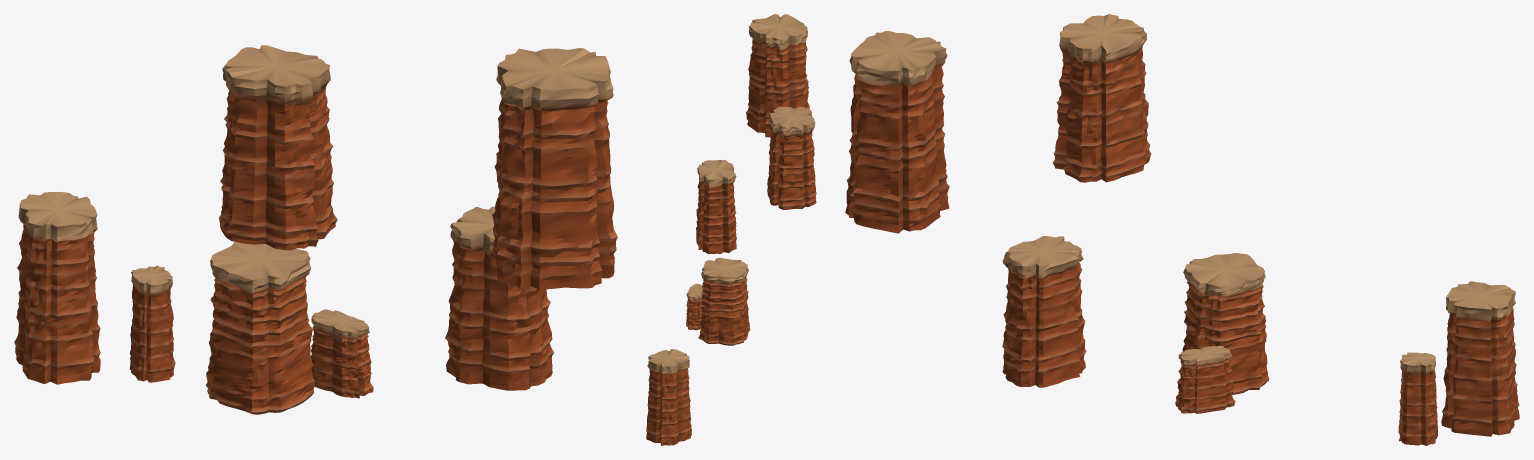
The model's file is terrain-087.glb.
3 renders of one model, left to right at view 1: azimuth 30°, elevation 25°; view 2: azimuth 150°, elevation 25°; view 3: azimuth 270°, elevation 25°, orthographic. The views are drawn at different scales.
Visible parts, largest first — view 1: terrain-087; view 2: terrain-087; view 3: terrain-087.
Boxes of the visible parts, x1,y1,x2,y2 form: terrain-087: (14, 45, 617, 414); terrain-087: (646, 14, 816, 445); terrain-087: (845, 14, 1519, 445).
Size of the model in its own units: 95.34 by 173 by 247.
